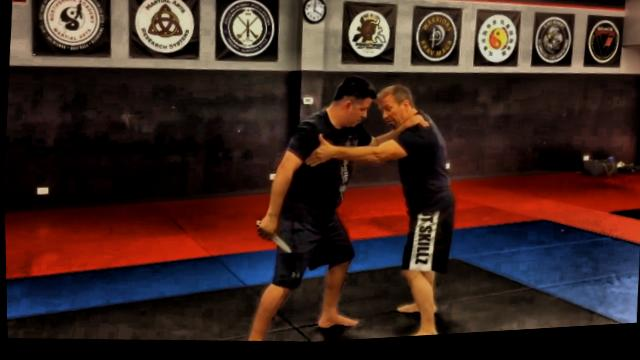knife: (246, 214, 296, 262)
